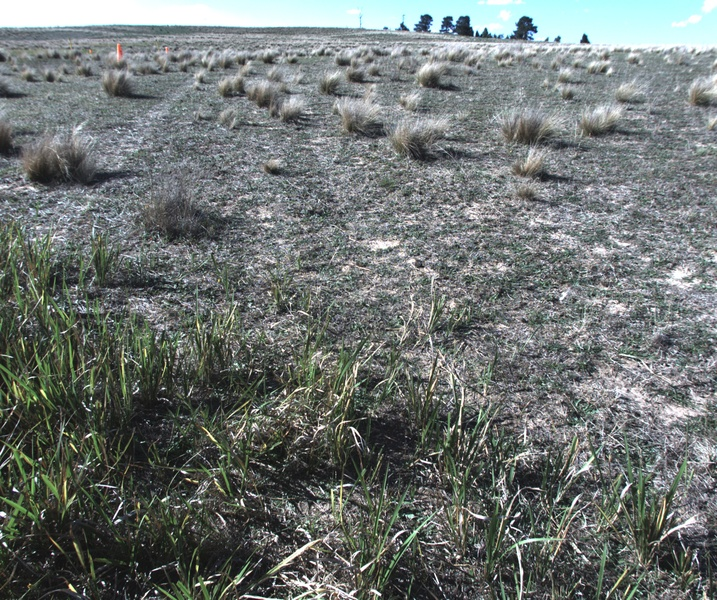st: (35, 129, 94, 181), (389, 117, 454, 164), (496, 108, 555, 142), (332, 96, 381, 134), (573, 104, 619, 142), (507, 147, 546, 179), (102, 71, 139, 102), (414, 60, 445, 93), (275, 93, 304, 126), (613, 82, 643, 109), (253, 82, 278, 112), (204, 51, 235, 73), (317, 69, 342, 95), (691, 79, 717, 103), (217, 107, 245, 128), (548, 82, 577, 102), (191, 68, 214, 93), (398, 92, 426, 111), (586, 57, 610, 79), (261, 157, 285, 178), (333, 53, 356, 74), (214, 79, 236, 100), (44, 65, 65, 83), (349, 64, 365, 86), (231, 74, 246, 97), (236, 47, 252, 67), (259, 47, 278, 63), (22, 70, 38, 87), (558, 65, 572, 84), (367, 66, 385, 76), (707, 115, 717, 125)
